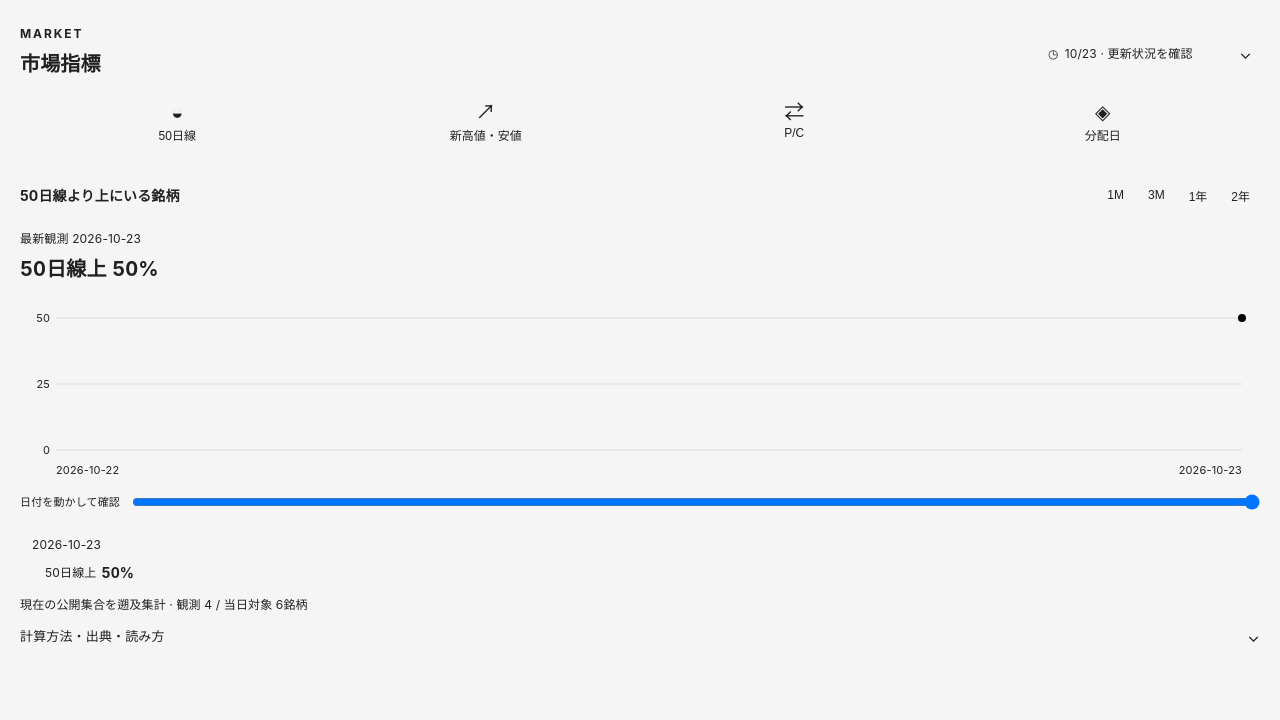
Test: market trend dashboard › switches via keyboard and keeps real zero separate from unknown
The width and height of the screenshot is (1280, 720).
Press ArrowRight in the tab "◒ 50日線", box [26,94,328,151]
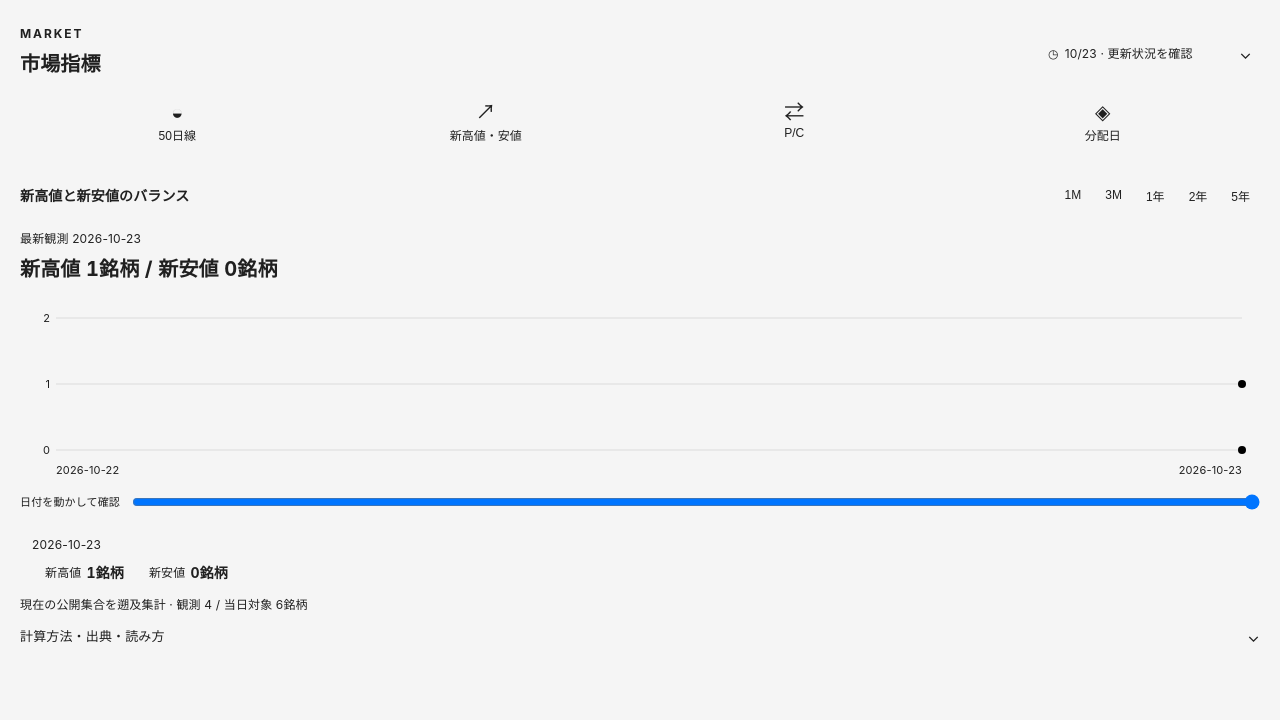
Result: the text "0銘柄" is shown at [190,562,228,583]
Click the tab "⇄ P/C" at (794, 122), box [643,94,946,151]
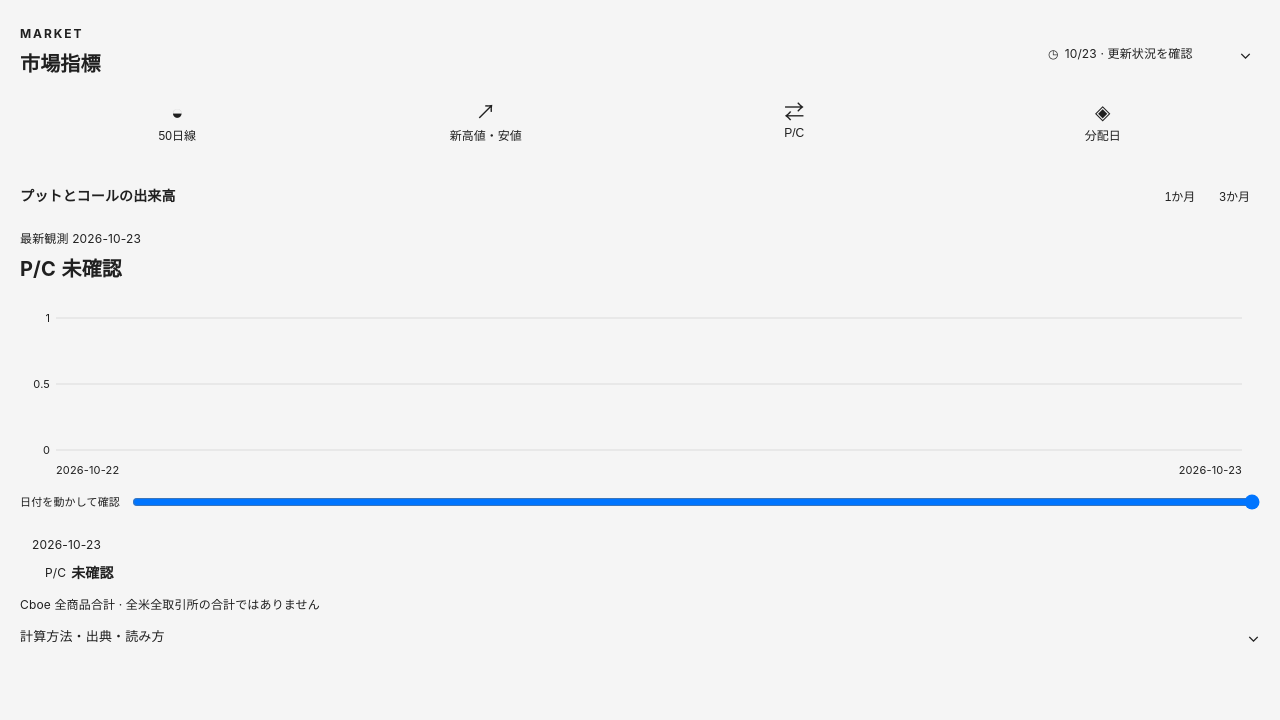
Result: the text "未確認" is shown at [71,562,114,583]
